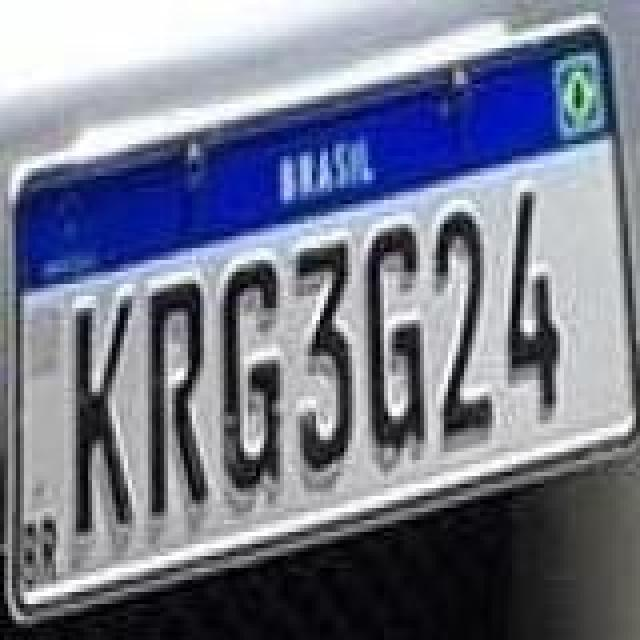2: (432, 208, 496, 440)
3: (294, 238, 354, 474)
4: (508, 186, 564, 406)
G: (220, 258, 284, 494), (364, 220, 428, 452)
K: (72, 294, 136, 538)
R: (146, 278, 206, 522)
